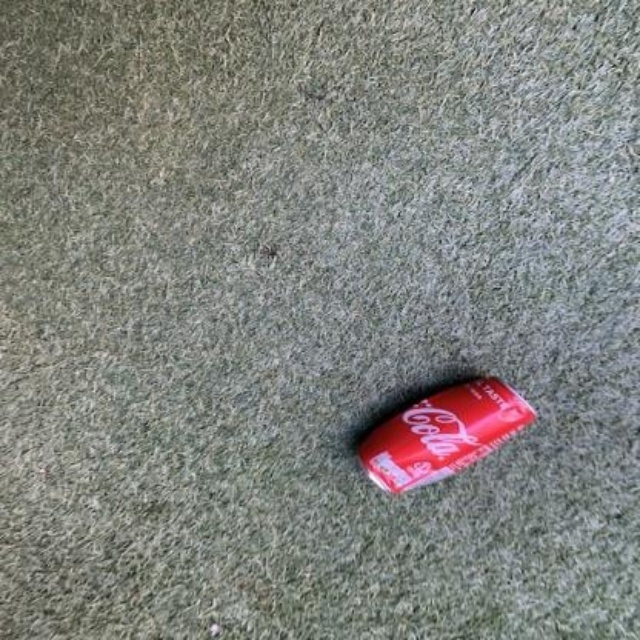trash: (358, 377, 534, 491)
